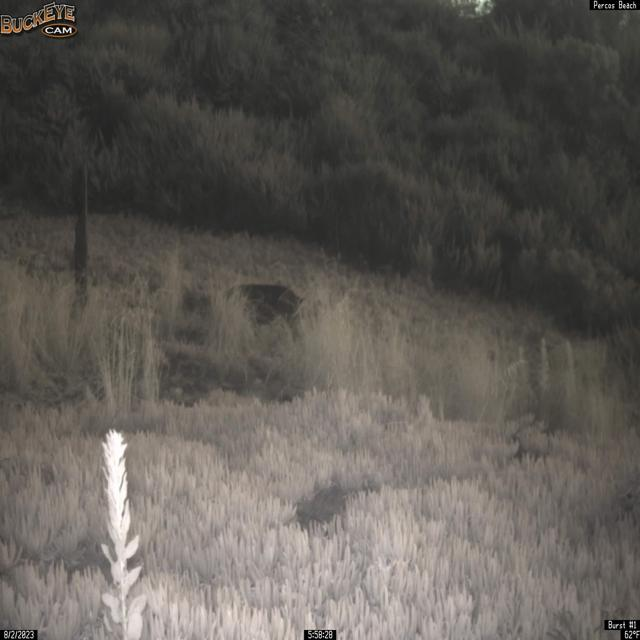pig: (224, 282, 307, 346)
